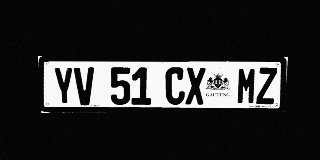1: (131, 67, 151, 105)
5: (110, 67, 131, 105)
C: (165, 67, 185, 105)
M: (236, 67, 257, 104)
V: (74, 67, 95, 105)
X: (185, 67, 206, 105)
Y: (53, 67, 75, 105)
Z: (256, 67, 277, 104)
